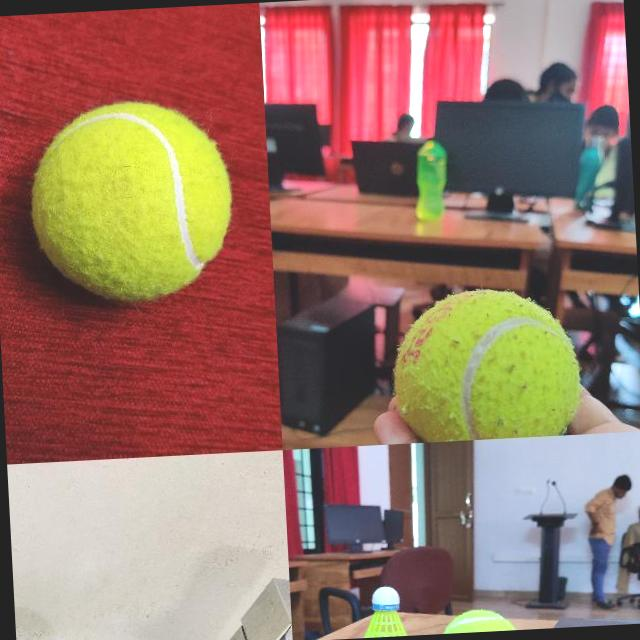Tennis Ball: (28, 96, 238, 306), (388, 284, 584, 444), (438, 607, 522, 633)
